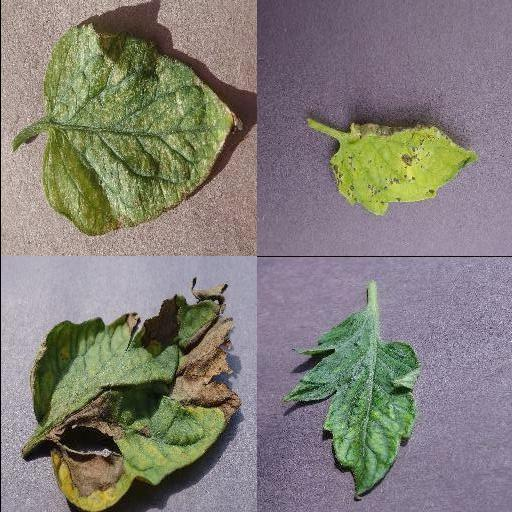Late Blight: (24, 278, 238, 512)
Mosaic Virus: (283, 308, 421, 502)
Septoria: (329, 119, 479, 219)
Spider Mites: (41, 22, 239, 236)
